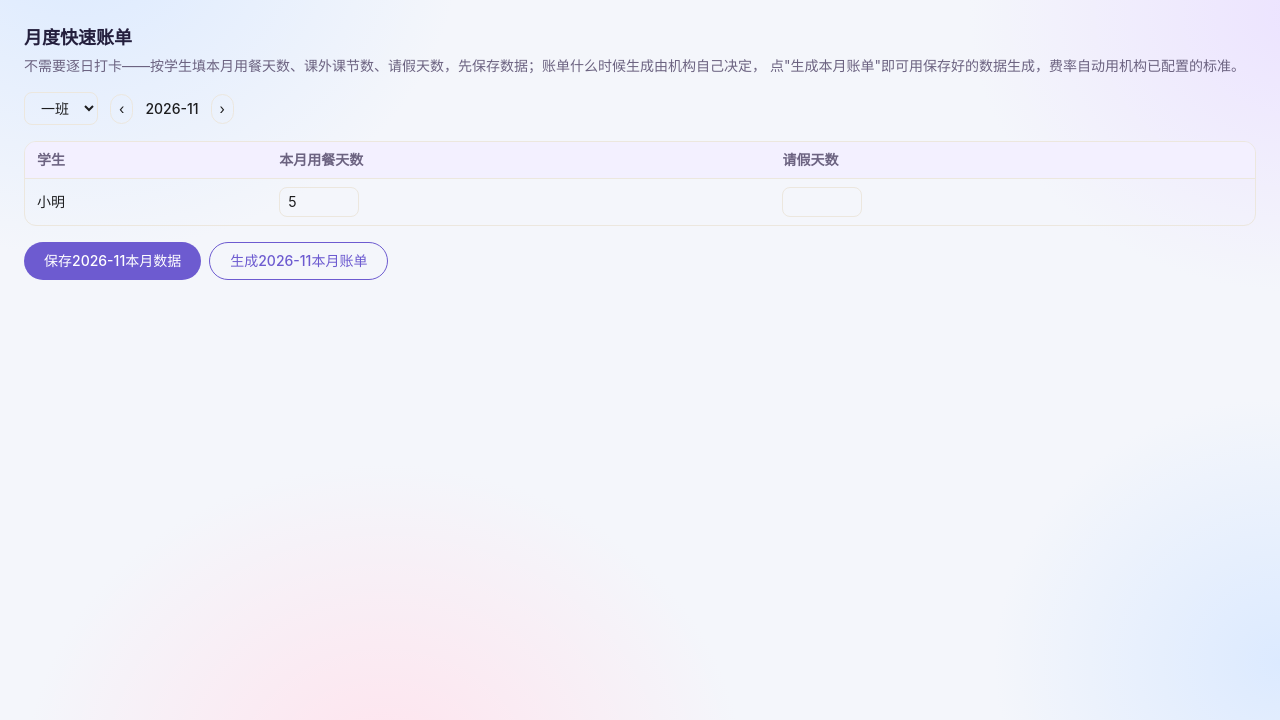
AdminMonthlyQuickBillModule › does not resubmit a student whose numbers are unchanged from what is already saved
Expected: the text "小明" is shown, [25,178,267,225]
What coordinates should you click on to do the following:
click the button "保存2026-11本月数据"
I would click on:
 (113, 261)
Its box is [24,242,201,280].
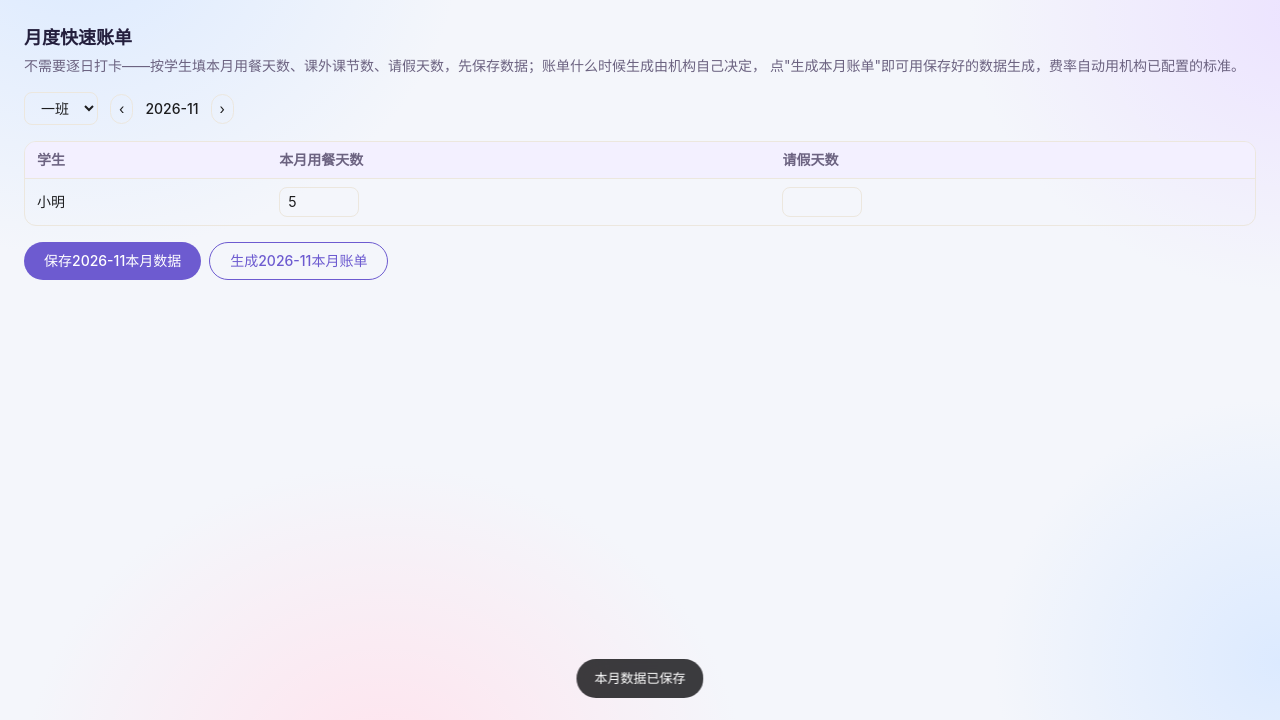
Expected: the text "本月数据已保存" is shown, [576,658,704,698]
